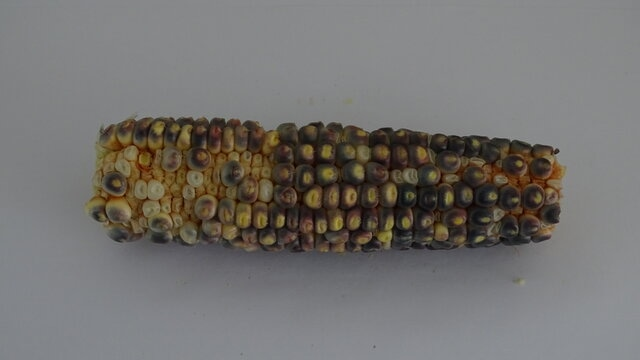ear: (86, 117, 567, 256)
